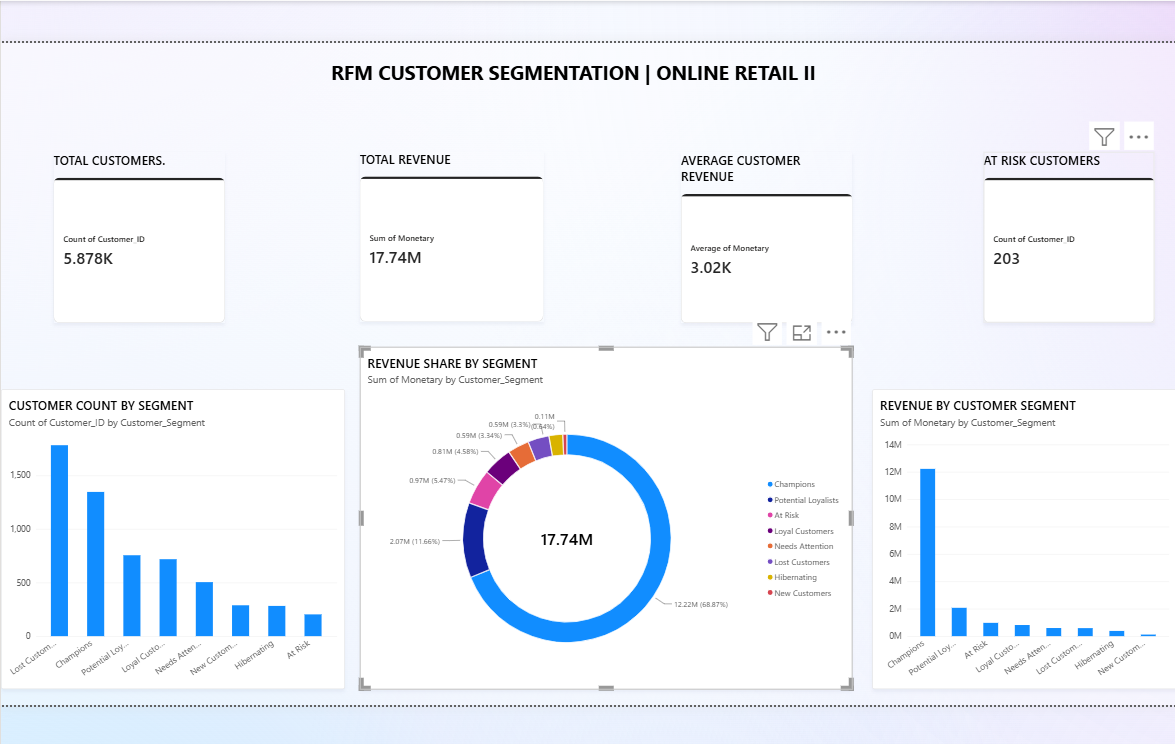

This screenshot's page, from the dashboard's own definition file:
{"tool":"powerbi","page":{"name":"Page 1","canvas":[1920,1080],"ordinal":0},"visuals":[{"type":"cardVisual","title":"TOTAL CUSTOMERS.","fields":{"Data":["Count(vw_RFM_Customer_Segmentation.Customer_ID)"]},"box":[85.7,177.6,280,280],"z":0},{"type":"cardVisual","title":"TOTAL REVENUE","fields":{"Data":["Sum(vw_RFM_Customer_Segmentation.Monetary)"]},"box":[585.7,175.5,300.5,279.9],"z":1000},{"type":"cardVisual","title":"AVERAGE CUSTOMER REVENUE","fields":{"Data":["Avg(vw_RFM_Customer_Segmentation.Monetary)"]},"box":[1110.2,177.6,280,280],"z":2000},{"type":"cardVisual","title":"AT RISK CUSTOMERS","fields":{"Data":["Count(vw_RFM_Customer_Segmentation.Customer_ID)"]},"box":[1603.4,177,280,280],"z":3000},{"type":"clusteredColumnChart","title":"CUSTOMER COUNT BY SEGMENT","fields":{"Category":["vw_RFM_Customer_Segmentation.Customer_Segment"],"Y":["CountNonNull(vw_RFM_Customer_Segmentation.Customer_ID)"]},"box":[0,566,561.9,489.9],"z":4000},{"type":"clusteredColumnChart","title":"REVENUE BY CUSTOMER SEGMENT","fields":{"Category":["vw_RFM_Customer_Segmentation.Customer_Segment"],"Y":["Sum(vw_RFM_Customer_Segmentation.Monetary)"]},"box":[1422.3,566,498.1,489.9],"z":5000},{"type":"donutChart","title":"REVENUE SHARE BY SEGMENT","fields":{"Category":["vw_RFM_Customer_Segmentation.Customer_Segment"],"Y":["Sum(vw_RFM_Customer_Segmentation.Monetary)"]},"box":[585.7,495.9,804.1,559.2],"z":6000},{"type":"textbox","box":[0,27,280,150],"z":7000},{"type":"textbox","box":[538.8,26.5,830.6,75.5],"z":8000}]}

Visuals, with their boxes on the page's 1920x1080 design canvas (x1, y1, x2, y2). These are canvas units, not pixel positions in the 1175x744 screenshot, which may show the page scaled, cropped or inside an application window:
"TOTAL CUSTOMERS." cardVisual: detection(86, 178, 366, 458)
"TOTAL REVENUE" cardVisual: detection(586, 176, 886, 455)
"AVERAGE CUSTOMER REVENUE" cardVisual: detection(1110, 178, 1390, 458)
"AT RISK CUSTOMERS" cardVisual: detection(1603, 177, 1883, 457)
"CUSTOMER COUNT BY SEGMENT" clusteredColumnChart: detection(0, 566, 562, 1056)
"REVENUE BY CUSTOMER SEGMENT" clusteredColumnChart: detection(1422, 566, 1920, 1056)
"REVENUE SHARE BY SEGMENT" donutChart: detection(586, 496, 1390, 1055)
textbox: detection(0, 27, 280, 177)
textbox: detection(539, 26, 1369, 102)
